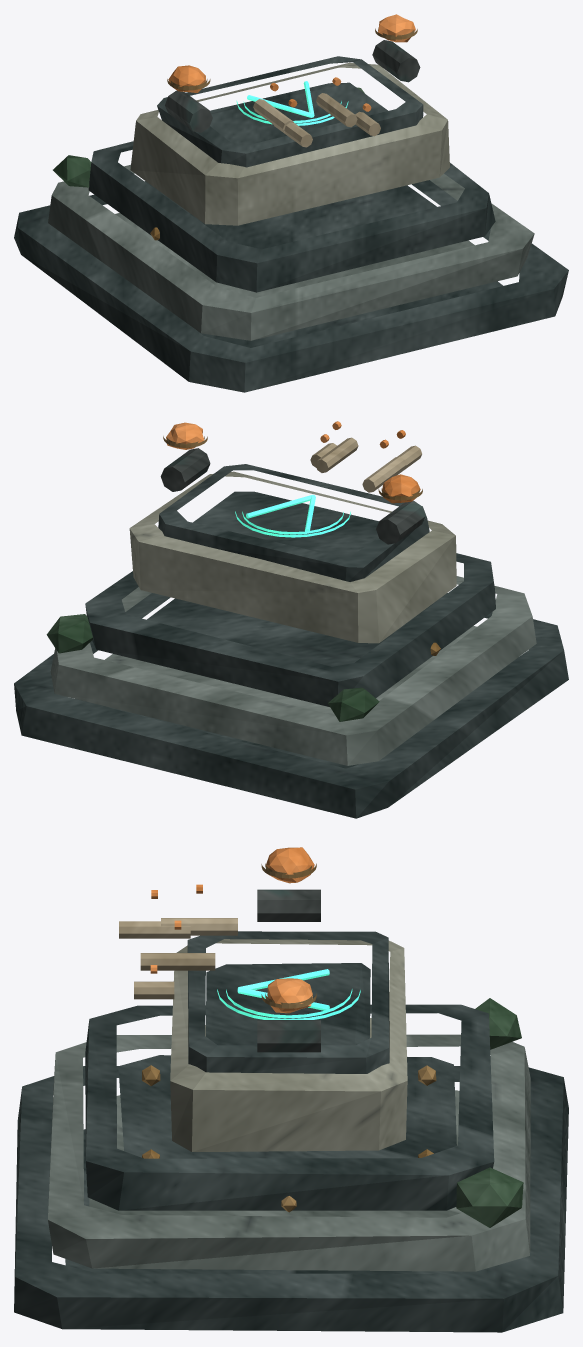
Rendered from 0454_altar_04.glb.
3 views of the same model, one above another, from view 1: azimuth 30°, elevation 25°; view 2: azimuth 150°, elevation 25°; view 3: azimuth 270°, elevation 25° (orthographic). The views are drawn at different scales.
Visible parts, largest first — view 1: stone_dark, stone, stone_light, iron, bone, amber, moss, glow, brass; view 2: stone_dark, stone, stone_light, iron, moss, bone, amber, glow, brass; view 3: stone_dark, stone, stone_light, bone, iron, moss, amber, glow, brass.
Boxes of the visible parts, left/top/right/bottom form: stone_dark: left=14, top=56, right=568, bottom=392; stone: left=48, top=164, right=534, bottom=340; stone_light: left=130, top=62, right=449, bottom=225; iron: left=165, top=40, right=420, bottom=132; bone: left=253, top=93, right=380, bottom=147; amber: left=168, top=14, right=415, bottom=111; moss: left=53, top=87, right=364, bottom=187; glow: left=236, top=81, right=348, bottom=125; brass: left=150, top=28, right=417, bottom=240; stone_dark: left=14, top=464, right=568, bottom=818; stone: left=50, top=576, right=536, bottom=765; stone_light: left=129, top=471, right=456, bottom=643; iron: left=160, top=448, right=425, bottom=544; moss: left=46, top=614, right=379, bottom=721; bone: left=310, top=437, right=421, bottom=492; amber: left=166, top=421, right=420, bottom=503; glow: left=235, top=494, right=350, bottom=537; brass: left=163, top=436, right=440, bottom=655; stone_dark: left=14, top=931, right=568, bottom=1332; stone: left=48, top=1034, right=530, bottom=1271; stone_light: left=170, top=939, right=407, bottom=1151; bone: left=119, top=918, right=237, bottom=999; iron: left=257, top=889, right=320, bottom=1052; moss: left=456, top=998, right=523, bottom=1227; amber: left=150, top=847, right=314, bottom=1013; glow: left=217, top=969, right=360, bottom=1019; brass: left=142, top=863, right=436, bottom=1212.
Bounding box in the file's own units: 2.07 × 1.27 × 2.09.
Materials: 9 (9 with a texture image).
